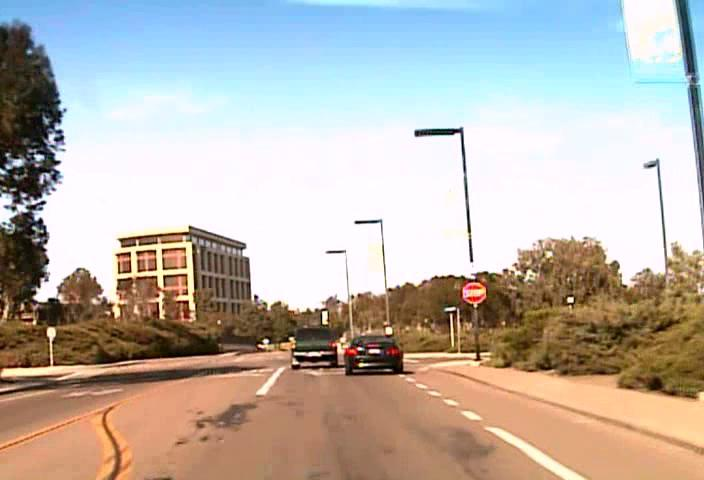stop: (462, 281, 487, 304)
